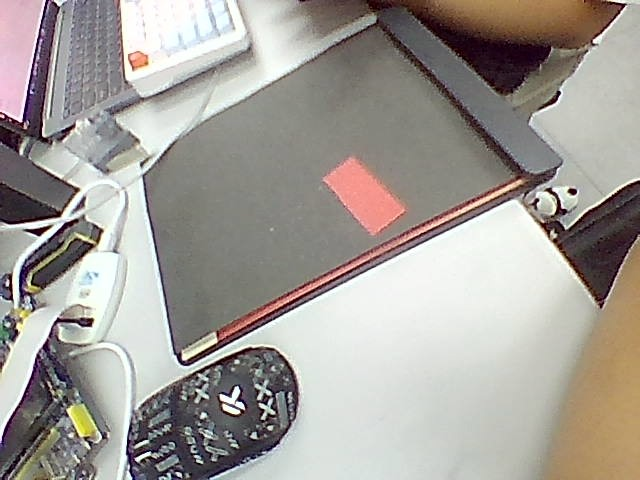card: (324, 157, 405, 235)
